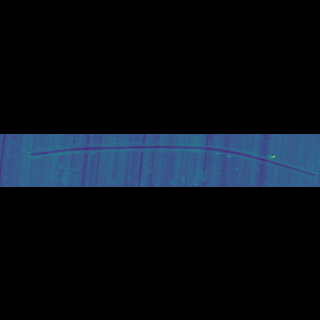Loch: (6, 157, 317, 163)
